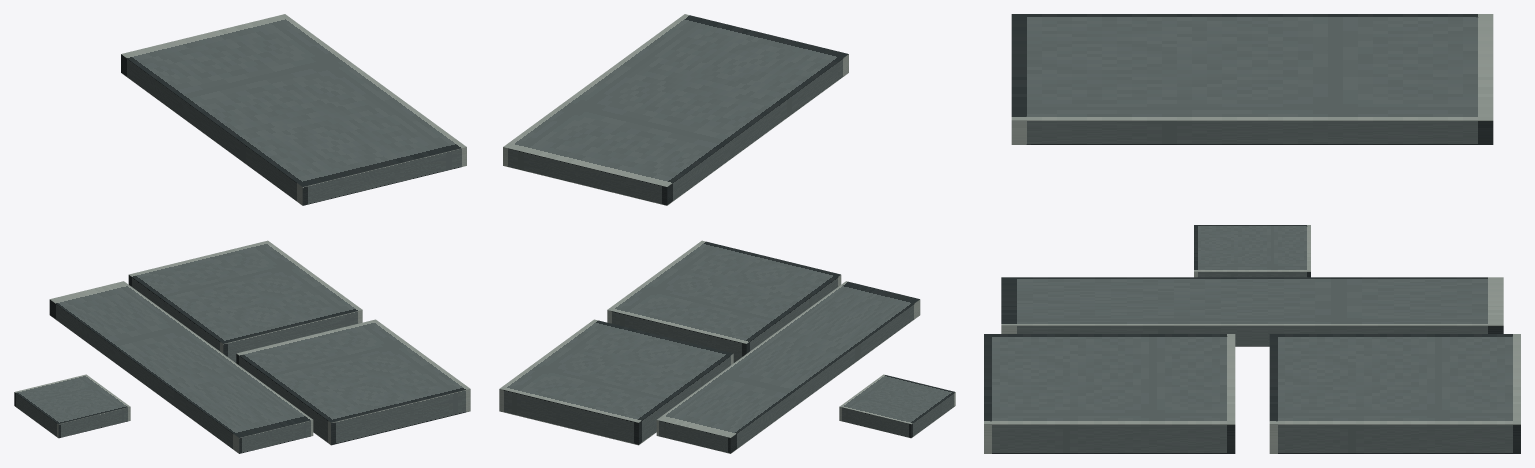
Rendered from bench_chestplate_1.obj.
3 views of the same model, side by side, from view 1: azimuth 30°, elevation 25°; view 2: azimuth 150°, elevation 25°; view 3: azimuth 270°, elevation 25° (orthographic). The views are drawn at different scales.
Visible parts, largest first — view 1: geometry; view 2: geometry; view 3: geometry.
Part boxes in pixels (<box>): geometry: <box>14,14,470,453</box>; geometry: <box>499,14,955,453</box>; geometry: <box>984,14,1520,453</box>.
Size of the model in its own units: 0.3432 by 0.25 by 0.3545.
